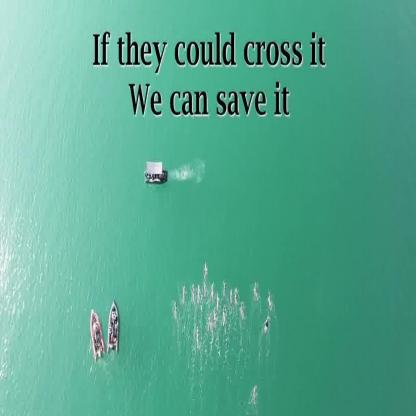Boat: (88, 308, 105, 359), (106, 296, 121, 346)
